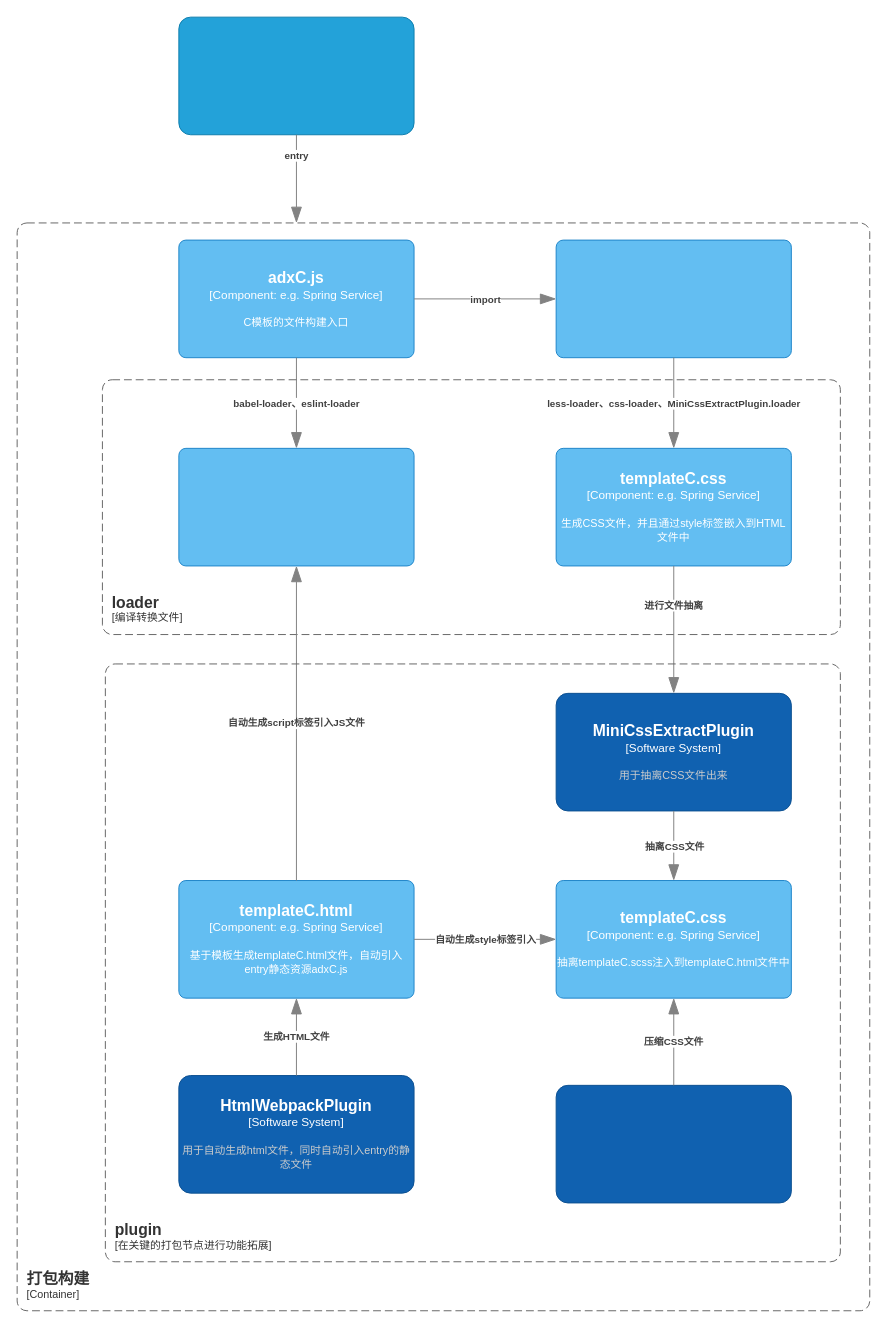
This 887x1328 diagram has some shape labels left out. The centre of each missing label's shape, as x and y in pixels:
adxC.js [Component: e.g. Spring Service] 转换语法为ES5，并且进行eslint扫描后的文件: the point at 296,506
OptimizeCSSAssetsPlugin [Software System] 压缩CSS文件: the point at 673,1143
templateC.less [Component: e.g. Spring Service] C模板的样式配置: the point at 673,298
Webpack构建模板页 [Container: e.g. SpringBoot, ElasticSearch, etc.] 用于工程化自动构建模板页: the point at 296,75
